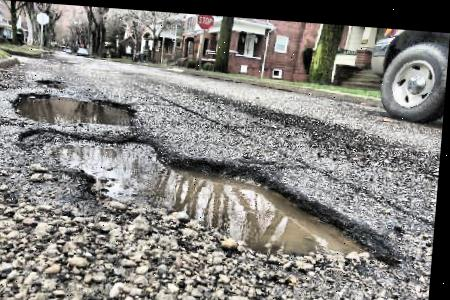pothole: (10, 126, 404, 268), (8, 88, 139, 128), (35, 74, 66, 88)
